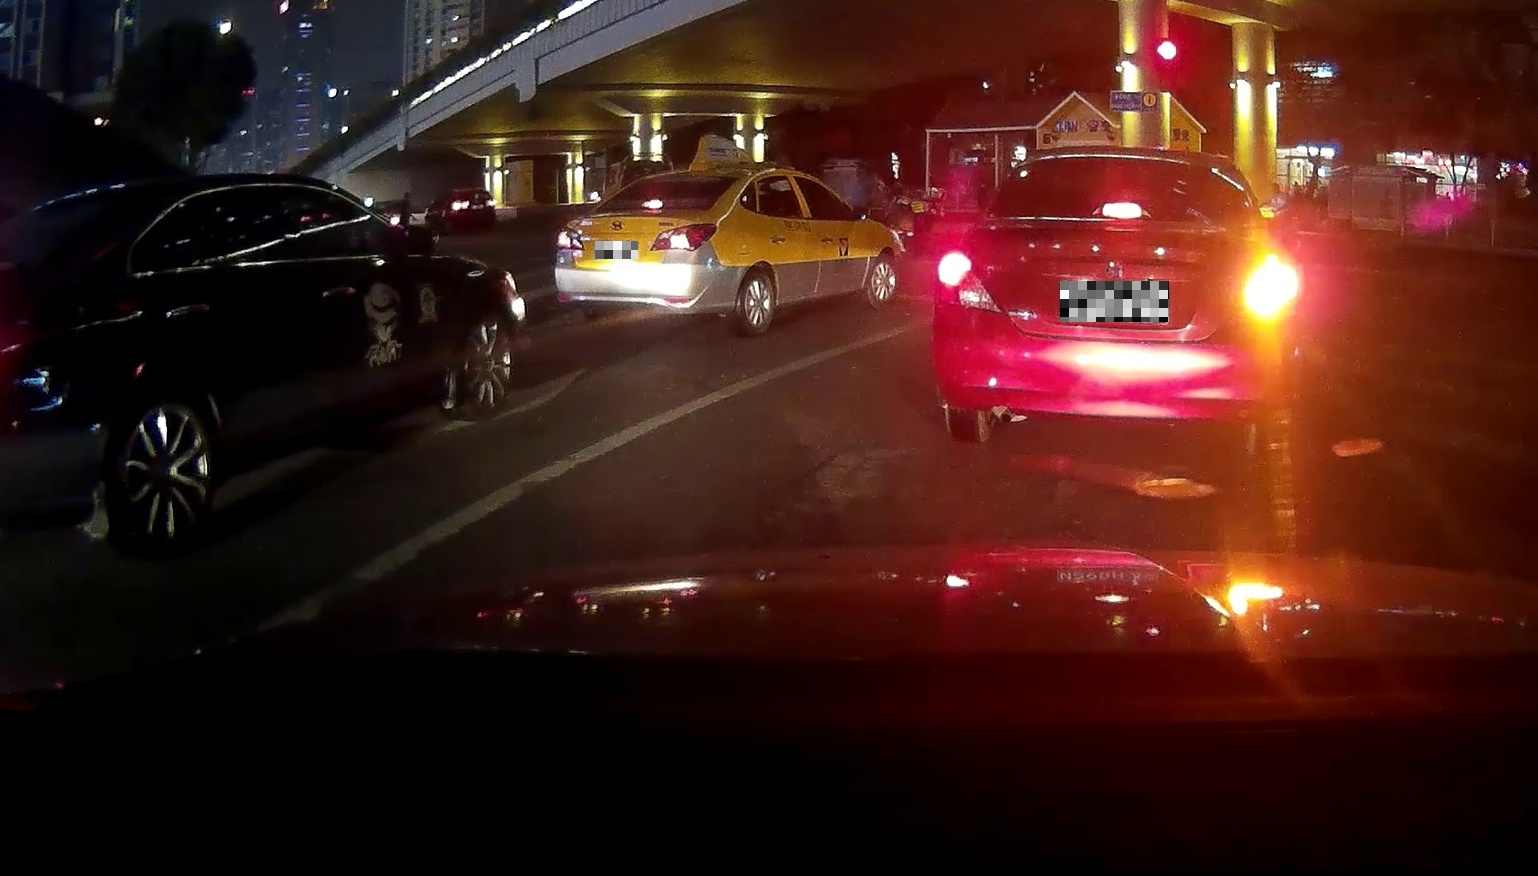L_light: (939, 251, 1002, 313), (557, 227, 585, 251)
R_light: (1222, 263, 1286, 322), (649, 223, 718, 251)
T_light: (1101, 202, 1142, 219), (642, 199, 663, 210)
night-brake: (555, 166, 739, 336)
night-right: (932, 146, 1290, 458)
plate_1: (595, 241, 638, 259)
plate_2: (1059, 281, 1169, 322)
